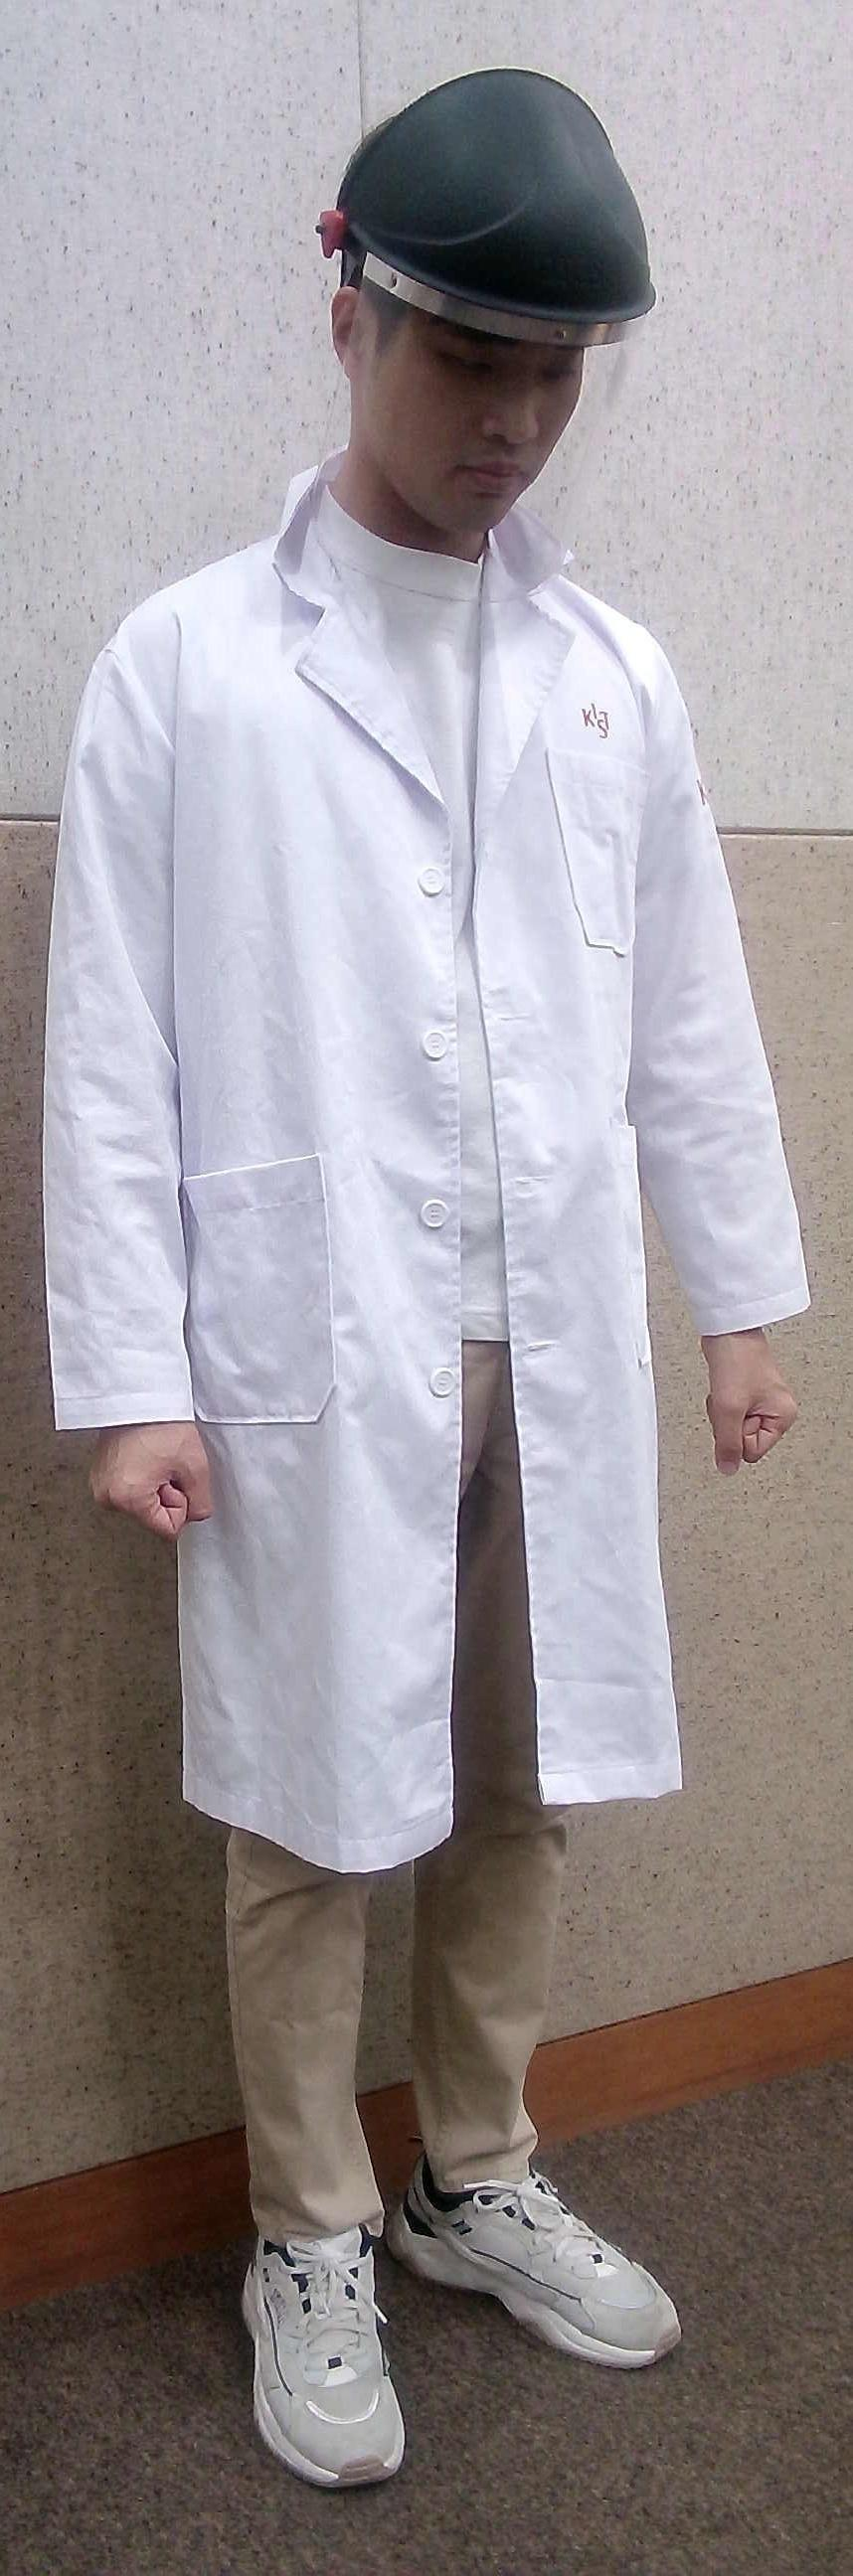lab_coat: (191, 483, 675, 1891)
